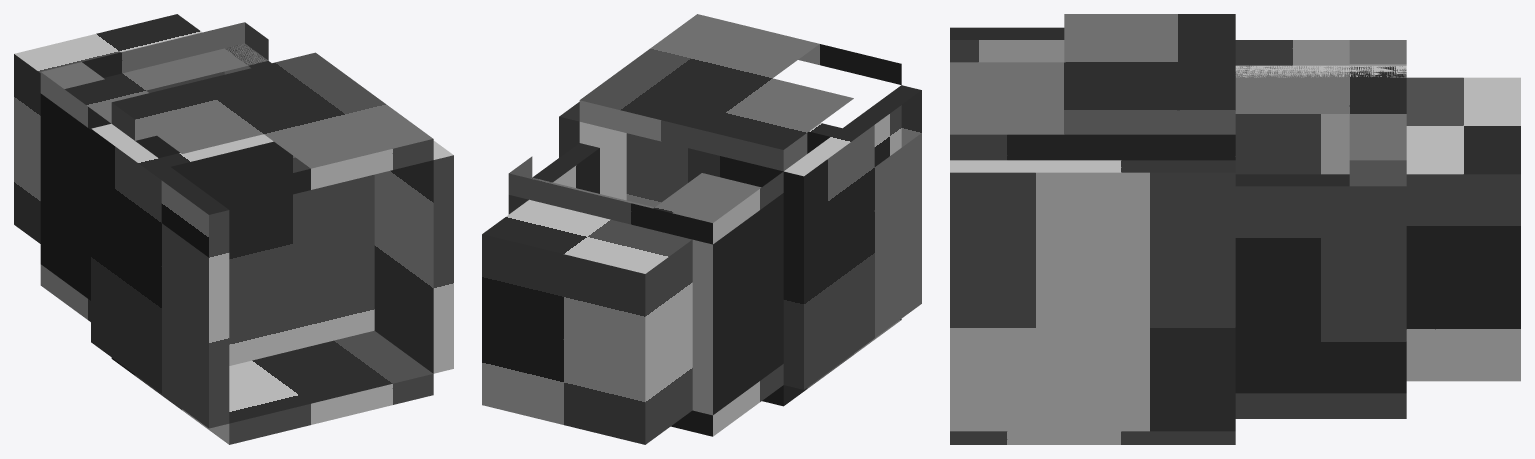
Rendered from cfm56.obj.
3 renders of one model, left to right at view 1: azimuth 30°, elevation 25°; view 2: azimuth 150°, elevation 25°; view 3: azimuth 270°, elevation 25°, orthographic. The views are drawn at different scales.
Visible parts, largest first — view 1: cube3, cube9, cube2, cube1, cube, cube6, cube8, cube5, cube4, cube7; view 2: cube8, cube3, cube2, cube5, cube6, cube9, cube1, cube7, cube4, cube; view 3: cube1, cube7, cube2, cube8, cube6, cube5, cube4, cube3, cube.
Part boxes in pixels (left/top/right/bottom): cube3: left=91, top=123, right=229, bottom=428; cube9: left=159, top=134, right=374, bottom=365; cube2: left=111, top=52, right=433, bottom=209; cube1: left=374, top=141, right=453, bottom=373; cube: left=111, top=330, right=433, bottom=444; cube6: left=40, top=22, right=268, bottom=129; cube8: left=14, top=14, right=224, bottom=243; cube5: left=40, top=93, right=90, bottom=300; cube4: left=40, top=264, right=90, bottom=321; cube7: left=224, top=44, right=271, bottom=74; cube8: left=482, top=199, right=692, bottom=444; cube3: left=783, top=85, right=921, bottom=389; cube2: left=579, top=14, right=901, bottom=171; cube5: left=692, top=193, right=783, bottom=415; cube6: left=508, top=156, right=783, bottom=244; cube9: left=626, top=123, right=841, bottom=207; cube1: left=559, top=102, right=626, bottom=200; cube7: left=508, top=143, right=599, bottom=214; cube4: left=671, top=364, right=783, bottom=436; cube: left=762, top=319, right=901, bottom=406; cube1: left=950, top=160, right=1235, bottom=431; cube7: left=1235, top=174, right=1406, bottom=393; cube2: left=950, top=14, right=1235, bottom=160; cube8: left=1406, top=77, right=1520, bottom=381; cube6: left=1235, top=40, right=1406, bottom=186; cube5: left=1235, top=65, right=1406, bottom=174; cube4: left=1235, top=393, right=1406, bottom=418; cube3: left=950, top=27, right=1064, bottom=62; cube: left=950, top=431, right=1235, bottom=444.
Bounding box in the file's own units: 0.75 × 0.75 × 1.25.
